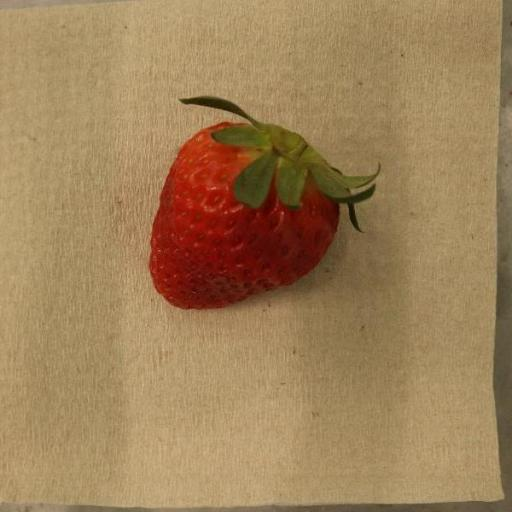Strawberry: (150, 96, 379, 311)
